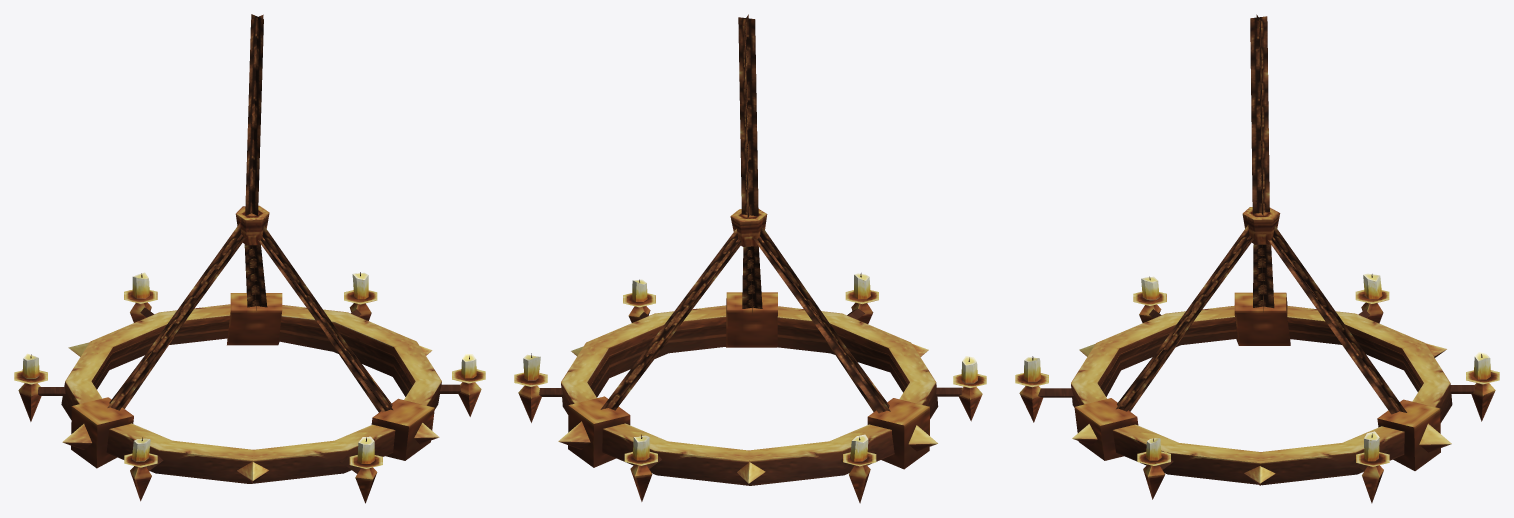
File: cbx_diaodeng.FBX
The picture shows the model from 3 angles, left to right: view 1: azimuth 30°, elevation 25°; view 2: azimuth 150°, elevation 25°; view 3: azimuth 270°, elevation 25°; orthographic projection.
Parts seen in each view (by area): view 1: cbx_diaodeng; view 2: cbx_diaodeng; view 3: cbx_diaodeng.
Part boxes in pixels (bbox=[...]): cbx_diaodeng: bbox=[14, 14, 485, 503]; cbx_diaodeng: bbox=[514, 14, 986, 503]; cbx_diaodeng: bbox=[1015, 14, 1499, 503].
Size of the model in its own units: 407 by 426 by 458.
1 material, 1 textured.
